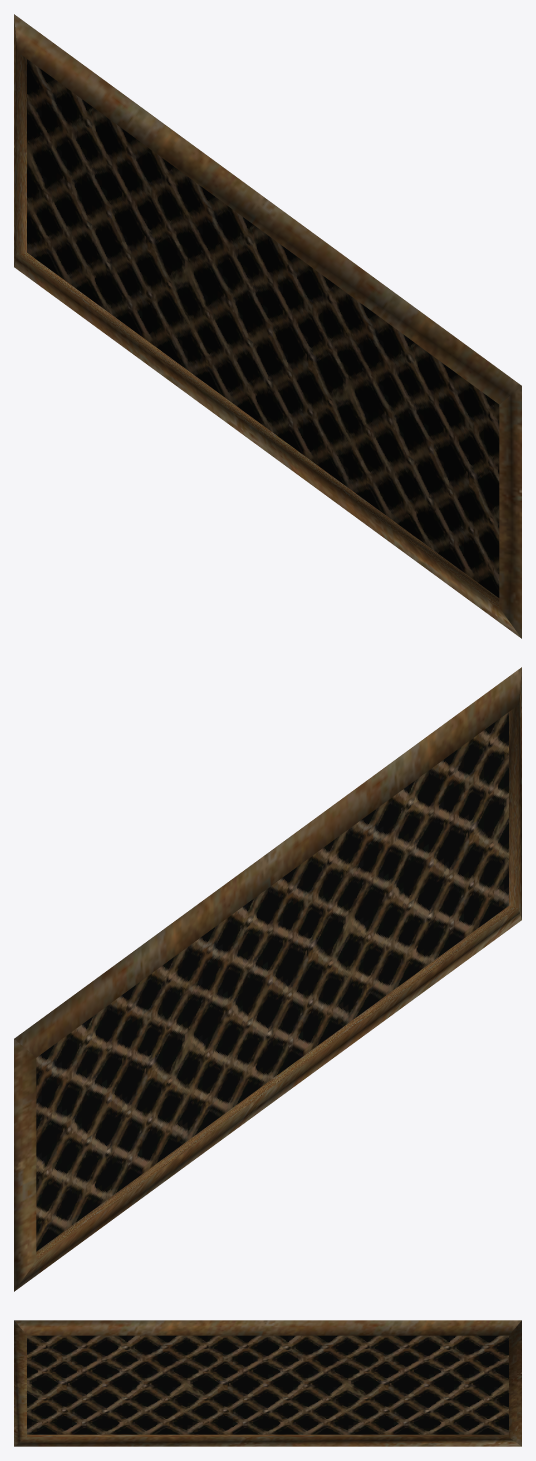
The model's file is DWARF_PALACE_MAINHALL_THRONEVENT01.fbx.
3 renders of one model, top to bottom at view 1: azimuth 30°, elevation 25°; view 2: azimuth 150°, elevation 25°; view 3: azimuth 270°, elevation 25°, orthographic. The views are drawn at different scales.
Parts seen in each view (by area): view 1: DWARF_PALACE_MAINHALL_THRONEVENT01; view 2: DWARF_PALACE_MAINHALL_THRONEVENT01; view 3: DWARF_PALACE_MAINHALL_THRONEVENT01.
Boxes of the visible parts, bbox=[...] form: DWARF_PALACE_MAINHALL_THRONEVENT01: bbox=[14, 14, 521, 638]; DWARF_PALACE_MAINHALL_THRONEVENT01: bbox=[14, 667, 521, 1291]; DWARF_PALACE_MAINHALL_THRONEVENT01: bbox=[14, 1320, 521, 1446].
Bounding box in the file's own units: 866 × 10996 × 40000.
Materials: 2 (2 with a texture image).
